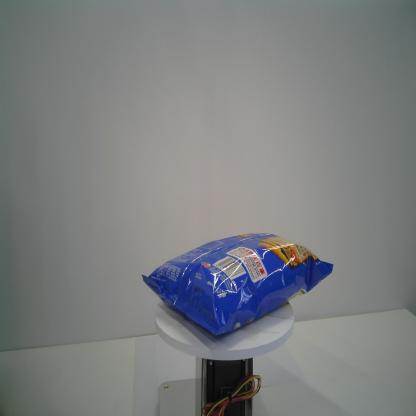Puffed Food: (141, 233, 334, 337)
